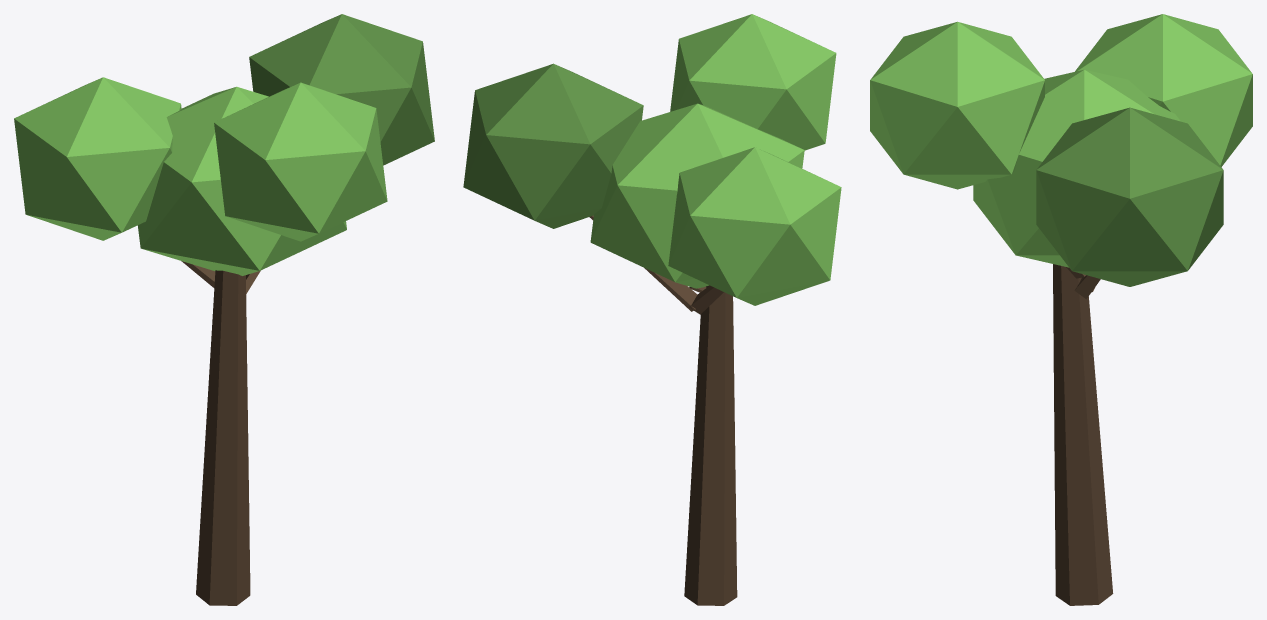
File: broad-v2-spring.glb
3 views of the same model, side by side, from view 1: azimuth 30°, elevation 25°; view 2: azimuth 150°, elevation 25°; view 3: azimuth 270°, elevation 25° (orthographic). The views are drawn at different scales.
Visible parts, largest first — view 1: broad_v2; view 2: broad_v2; view 3: broad_v2.
Part boxes in pixels (<box>): broad_v2: <box>14,14,434,605</box>; broad_v2: <box>463,14,841,605</box>; broad_v2: <box>870,14,1252,605</box>.
Size of what is drawn, in the model's own units: 4.85 by 6.71 by 3.99.
